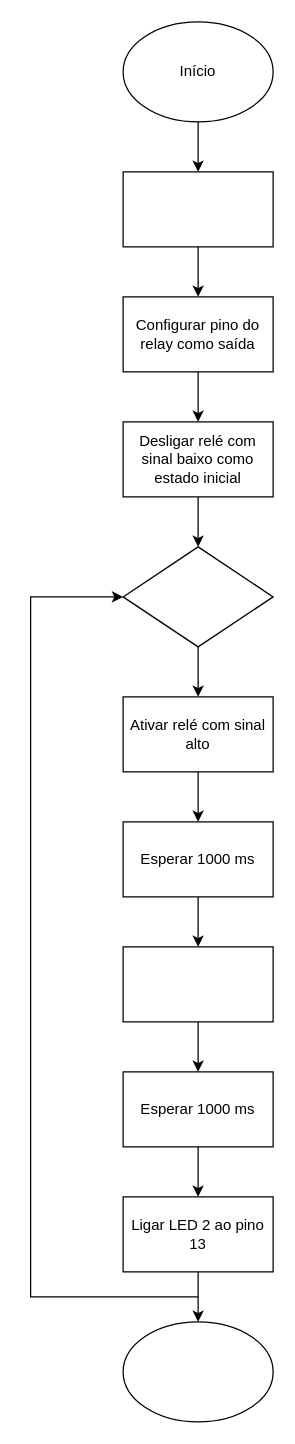
Image size: 295x1444. Some labels were removed from this diagram. Here are the shapes that lost their labels. From the top down, the box of each, then its label:
(122, 171, 273, 247): Definir pino do relay como valor 4
(122, 546, 273, 647): Repetir sempre
(122, 946, 273, 1022): Desativar relé com sinal baixo
(122, 1321, 273, 1422): Fim
